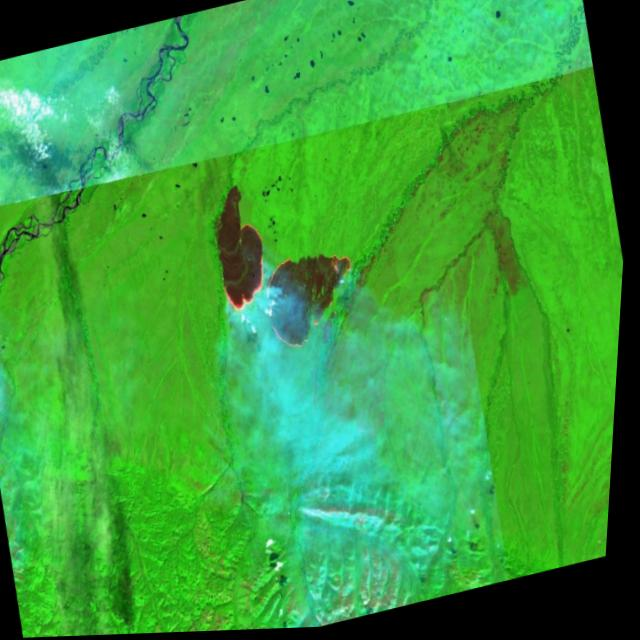fire: (201, 198, 376, 380)
